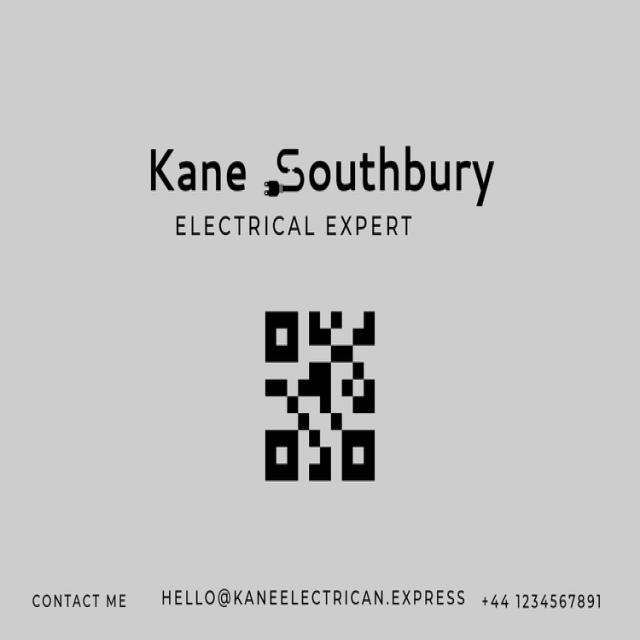QR-codes: (264, 308, 378, 485)
